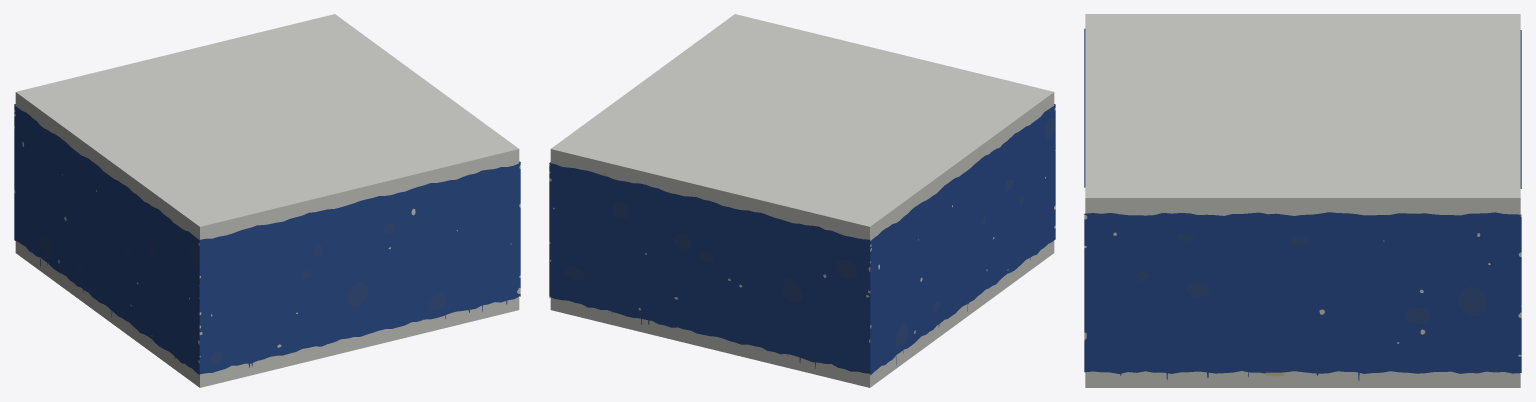
The model's file is pillar_band2_blau.glb.
The picture shows the model from 3 angles, left to right: view 1: azimuth 30°, elevation 25°; view 2: azimuth 150°, elevation 25°; view 3: azimuth 270°, elevation 25°; orthographic projection. The views are drawn at different scales.
Visible parts, largest first — view 1: band; view 2: band; view 3: band.
Part boxes in pixels (x1,y1,x2,y2): band: (14, 14, 520, 387); band: (549, 14, 1055, 387); band: (1084, 14, 1521, 387).
Bounding box in the file's own units: 2 × 0.96 × 2.
